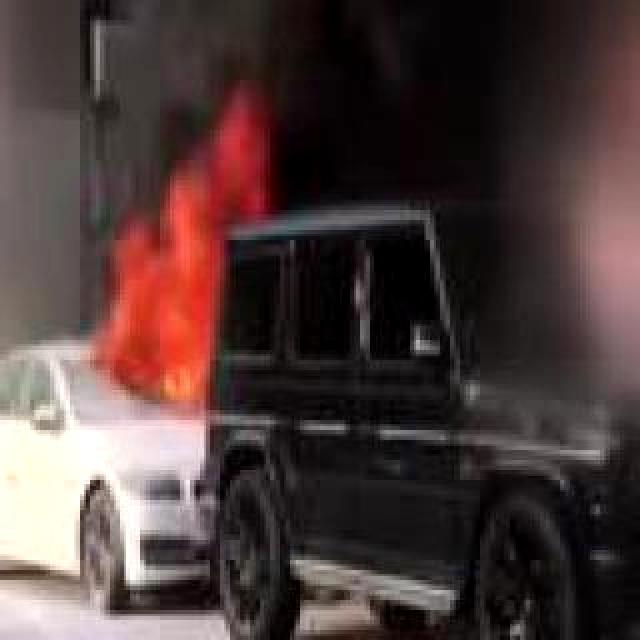fire: (118, 142, 268, 414)
